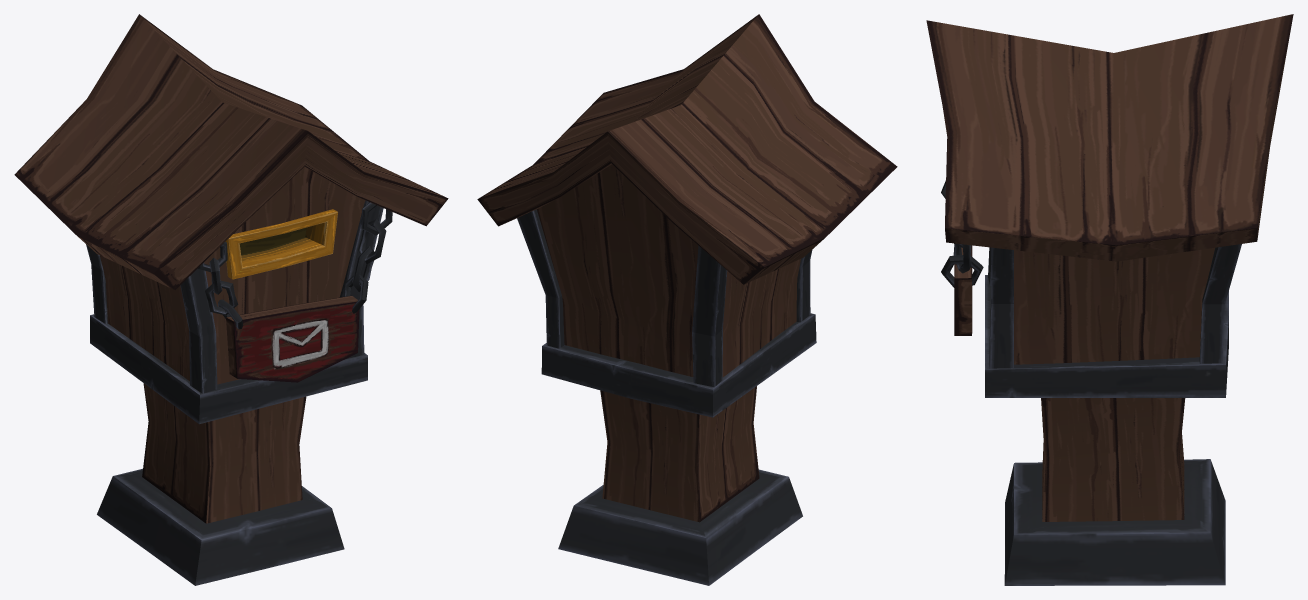
Rendered from SM_PROP_mailbox_city_01.fbx.
3 renders of one model, left to right at view 1: azimuth 30°, elevation 25°; view 2: azimuth 150°, elevation 25°; view 3: azimuth 270°, elevation 25°, orthographic. The views are drawn at different scales.
Parts seen in each view (by area): view 1: SM_PROP_mailbox_city_01; view 2: SM_PROP_mailbox_city_01; view 3: SM_PROP_mailbox_city_01.
Boxes of the visible parts, x1,y1,x2,y2 form: SM_PROP_mailbox_city_01: (14, 14, 448, 585); SM_PROP_mailbox_city_01: (477, 14, 897, 585); SM_PROP_mailbox_city_01: (926, 14, 1293, 585).
Bounding box in the file's own units: 98.46 × 146 × 91.76.
